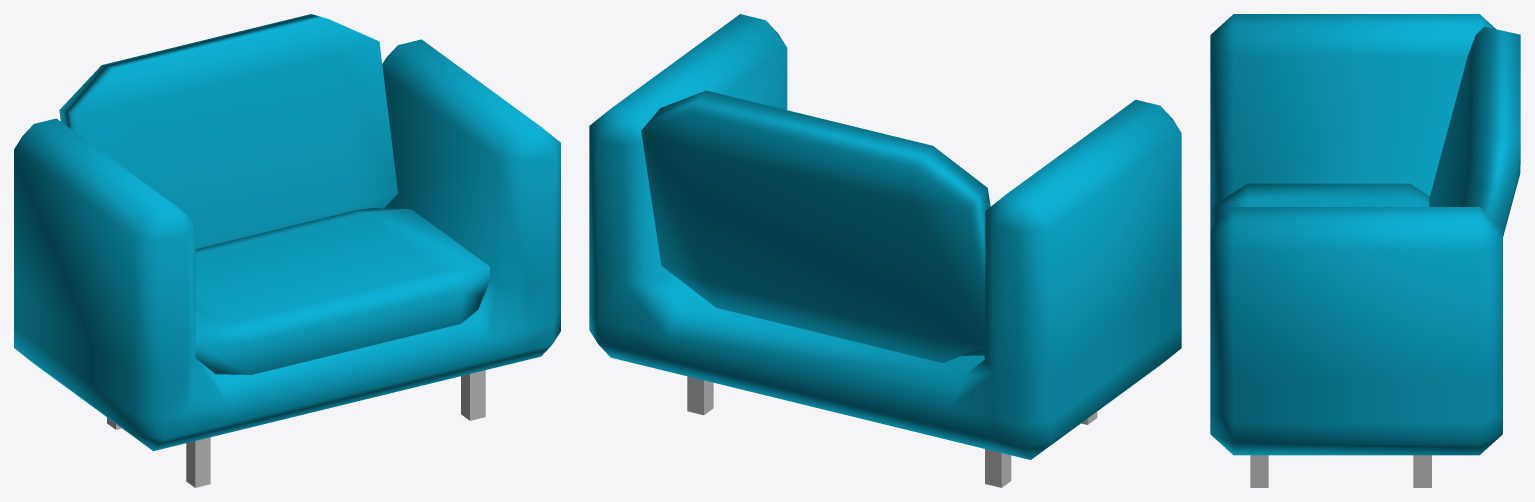
File: sofa.fbx
The picture shows the model from 3 angles, left to right: view 1: azimuth 30°, elevation 25°; view 2: azimuth 150°, elevation 25°; view 3: azimuth 270°, elevation 25°; orthographic projection. The views are drawn at different scales.
Parts seen in each view (by area): view 1: Cube_001; view 2: Cube_001; view 3: Cube_001.
Boxes of the visible parts, box(x1,y1,x2,y2) form: Cube_001: box(14, 14, 560, 487); Cube_001: box(589, 14, 1181, 487); Cube_001: box(1210, 14, 1520, 487).
Bounding box in the file's own units: 4.35 × 3.17 × 2.66.
